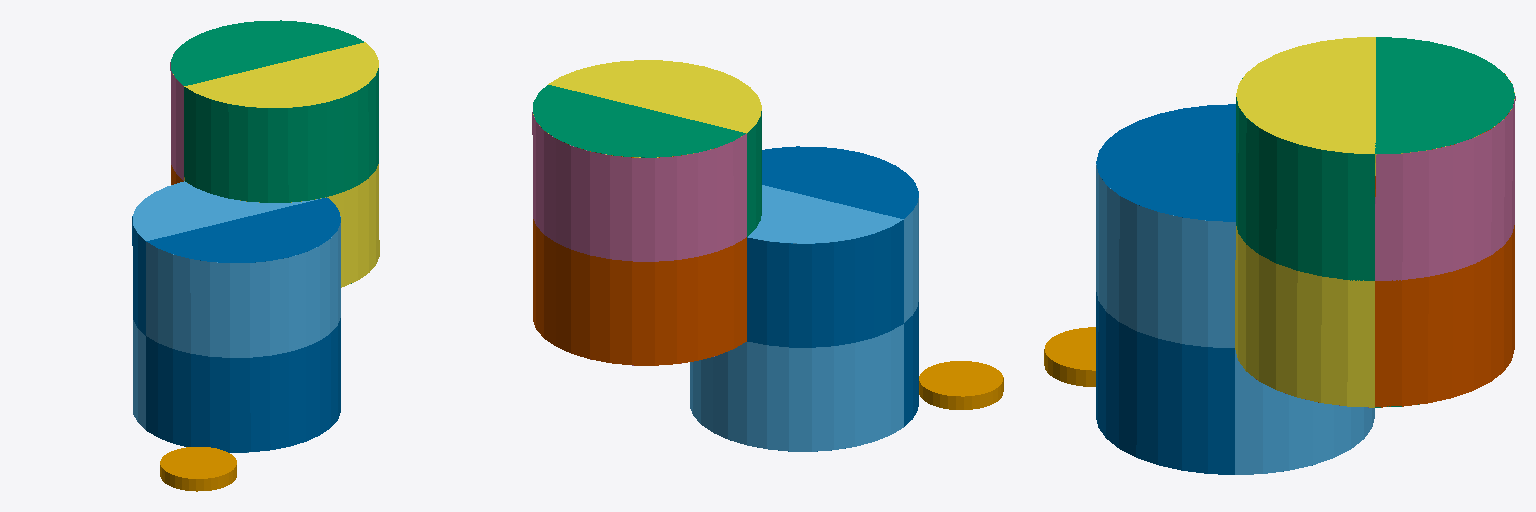
robot.urdf — pepe:
<?xml version="1.0"?><robot name="pepe">
	<link name="0">
		<visual>
			<geometry>
				<cylinder length="0.1316953141447501" radius="0.36819101713275926"/>
			</geometry>
		</visual>
		<collision>
			<geometry>
				<cylinder length="0.1316953141447501" radius="0.36819101713275926"/>
			</geometry>
		</collision>
		<inertial>
			<mass value="0.056087563296070564"/>
			<inertia ixx="0.03" iyy="0.03" izz="0.03" ixy="0" ixz="0" iyx="0"/>
		</inertial>
	</link>
	<link name="11">
		<visual>
			<geometry>
				<cylinder length="1.9998" radius="0.9999"/>
			</geometry>
		</visual>
		<collision>
			<geometry>
				<cylinder length="1.9998" radius="0.9999"/>
			</geometry>
		</collision>
		<inertial>
			<mass value="6.281300540076709"/>
			<inertia ixx="0.03" iyy="0.03" izz="0.03" ixy="0" ixz="0" iyx="0"/>
		</inertial>
	</link>
	<link name="22">
		<visual>
			<geometry>
				<cylinder length="1.9998" radius="0.9999"/>
			</geometry>
		</visual>
		<collision>
			<geometry>
				<cylinder length="1.9998" radius="0.9999"/>
			</geometry>
		</collision>
		<inertial>
			<mass value="6.281300540076709"/>
			<inertia ixx="0.03" iyy="0.03" izz="0.03" ixy="0" ixz="0" iyx="0"/>
		</inertial>
	</link>
	<link name="23">
		<visual>
			<geometry>
				<cylinder length="1.9998" radius="0.9999"/>
			</geometry>
		</visual>
		<collision>
			<geometry>
				<cylinder length="1.9998" radius="0.9999"/>
			</geometry>
		</collision>
		<inertial>
			<mass value="6.281300540076709"/>
			<inertia ixx="0.03" iyy="0.03" izz="0.03" ixy="0" ixz="0" iyx="0"/>
		</inertial>
	</link>
	<link name="14">
		<visual>
			<geometry>
				<cylinder length="1.9998" radius="0.9999"/>
			</geometry>
		</visual>
		<collision>
			<geometry>
				<cylinder length="1.9998" radius="0.9999"/>
			</geometry>
		</collision>
		<inertial>
			<mass value="6.281300540076709"/>
			<inertia ixx="0.03" iyy="0.03" izz="0.03" ixy="0" ixz="0" iyx="0"/>
		</inertial>
	</link>
	<link name="25">
		<visual>
			<geometry>
				<cylinder length="1.9998" radius="0.9999"/>
			</geometry>
		</visual>
		<collision>
			<geometry>
				<cylinder length="1.9998" radius="0.9999"/>
			</geometry>
		</collision>
		<inertial>
			<mass value="6.281300540076709"/>
			<inertia ixx="0.03" iyy="0.03" izz="0.03" ixy="0" ixz="0" iyx="0"/>
		</inertial>
	</link>
	<link name="26">
		<visual>
			<geometry>
				<cylinder length="1.9998" radius="0.9999"/>
			</geometry>
		</visual>
		<collision>
			<geometry>
				<cylinder length="1.9998" radius="0.9999"/>
			</geometry>
		</collision>
		<inertial>
			<mass value="6.281300540076709"/>
			<inertia ixx="0.03" iyy="0.03" izz="0.03" ixy="0" ixz="0" iyx="0"/>
		</inertial>
	</link>
	<joint name="11_to_0" type="revolute">
		<parent link="0"/>
		<child link="11"/>
		<axis xyz="0 0 1"/>
		<limit effort="1" upper="-3.1415" lower="3.1415" velocity="1"/>
		<origin rpy="12.565113977297736 6.282556988648868 6.282556988648868" xyz="0.9999 0.9999 0.9999"/>
	</joint>
	<joint name="22_to_11" type="revolute">
		<parent link="11"/>
		<child link="22"/>
		<axis xyz="0 0 1"/>
		<limit effort="1" upper="-3.1415" lower="3.1415" velocity="1"/>
		<origin rpy="12.565113977297736 6.282556988648868 6.282556988648868" xyz="0.9999 0.9999 0.9999"/>
	</joint>
	<joint name="23_to_11" type="revolute">
		<parent link="11"/>
		<child link="23"/>
		<axis xyz="0 0 1"/>
		<limit effort="1" upper="-3.1415" lower="3.1415" velocity="1"/>
		<origin rpy="18.847670965946605 6.282556988648868 6.282556988648868" xyz="0.9999 0.9999 0.9999"/>
	</joint>
	<joint name="14_to_0" type="revolute">
		<parent link="0"/>
		<child link="14"/>
		<axis xyz="0 0 1"/>
		<limit effort="1" upper="-3.1415" lower="3.1415" velocity="1"/>
		<origin rpy="18.847670965946605 6.282556988648868 6.282556988648868" xyz="0.9999 0.9999 0.9999"/>
	</joint>
	<joint name="25_to_14" type="revolute">
		<parent link="14"/>
		<child link="25"/>
		<axis xyz="0 0 1"/>
		<limit effort="1" upper="-3.1415" lower="3.1415" velocity="1"/>
		<origin rpy="12.565113977297736 6.282556988648868 6.282556988648868" xyz="0.9999 0.9999 0.9999"/>
	</joint>
	<joint name="26_to_14" type="revolute">
		<parent link="14"/>
		<child link="26"/>
		<axis xyz="0 0 1"/>
		<limit effort="1" upper="-3.1415" lower="3.1415" velocity="1"/>
		<origin rpy="18.847670965946605 6.282556988648868 6.282556988648868" xyz="0.9999 0.9999 0.9999"/>
	</joint>
</robot>

--- Facts derived from the render (not from the file) ---
The picture shows the robot from 3 angles, left to right: view 1: azimuth 30°, elevation 25°; view 2: azimuth 150°, elevation 25°; view 3: azimuth 270°, elevation 25°; orthographic projection.
Robot: pepe — 7 links, 6 joints (6 revolute); root link 0; default pose: every joint at zero.
Visible links, largest first — view 1: 14, 22, 11, 23, 0, 26; view 2: 11, 14, 26, 25, 22, 23, 0; view 3: 23, 14, 22, 11, 25, 26, 0.
Boxes of the visible links, x1,y1,x2,y2 form: 14: [132, 197, 340, 452]; 22: [171, 20, 378, 283]; 11: [133, 181, 340, 452]; 23: [173, 42, 379, 287]; 0: [160, 447, 236, 491]; 26: [170, 52, 183, 180]; 11: [690, 185, 918, 451]; 14: [730, 146, 918, 451]; 26: [532, 112, 746, 365]; 25: [533, 138, 746, 365]; 22: [533, 85, 761, 236]; 23: [533, 60, 761, 157]; 0: [919, 361, 1003, 409]; 23: [1235, 37, 1514, 407]; 14: [1096, 104, 1312, 474]; 22: [1236, 37, 1514, 407]; 11: [1096, 143, 1374, 474]; 25: [1318, 74, 1514, 407]; 26: [1256, 87, 1515, 407]; 0: [1044, 327, 1095, 386].
Bounding box of the posed robot: 3.37 × 3.37 × 3.07 m (x, y, z).
Geometry: primitives only (box / cylinder / sphere), no mesh files.
